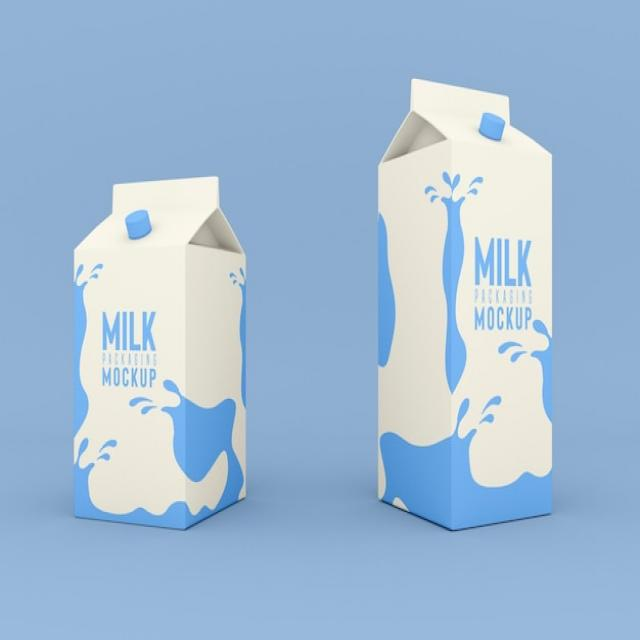non_white_jug: (351, 71, 574, 542), (63, 174, 266, 544)
